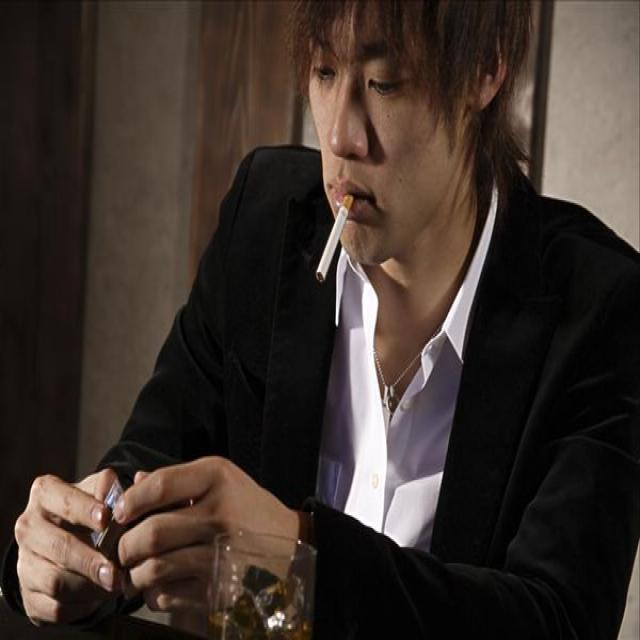smoking: (315, 190, 356, 287)
